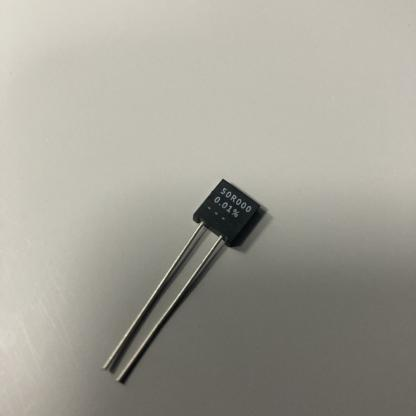SP0000008: (77, 148, 300, 400)
